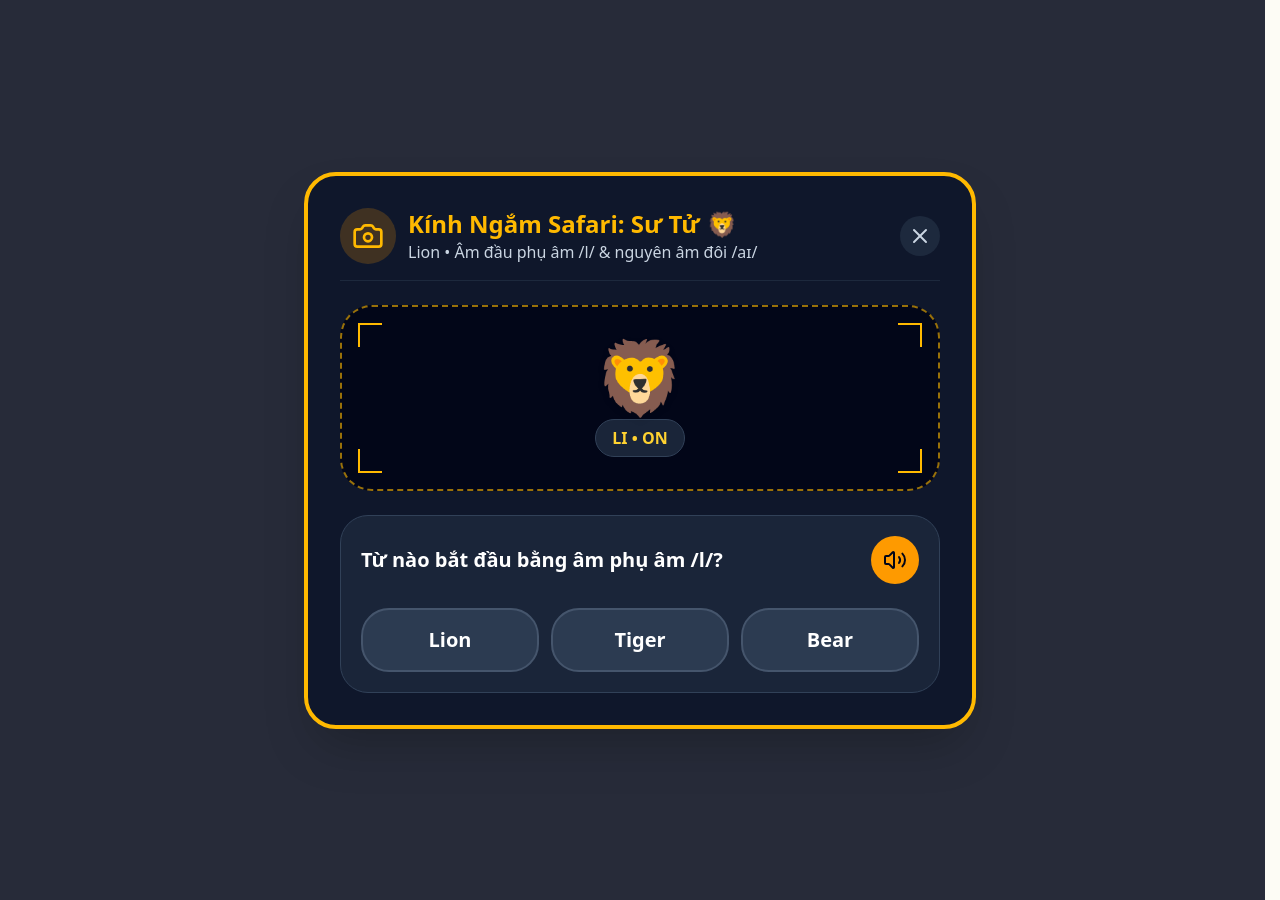
Test case: Phonics Safari UI Components › SafariCameraModal › handles incorrect answer with kick sound and feedback
Note: Click wrong option "Tiger"
Click the button "Tiger": (640, 640) [551,608,729,672]
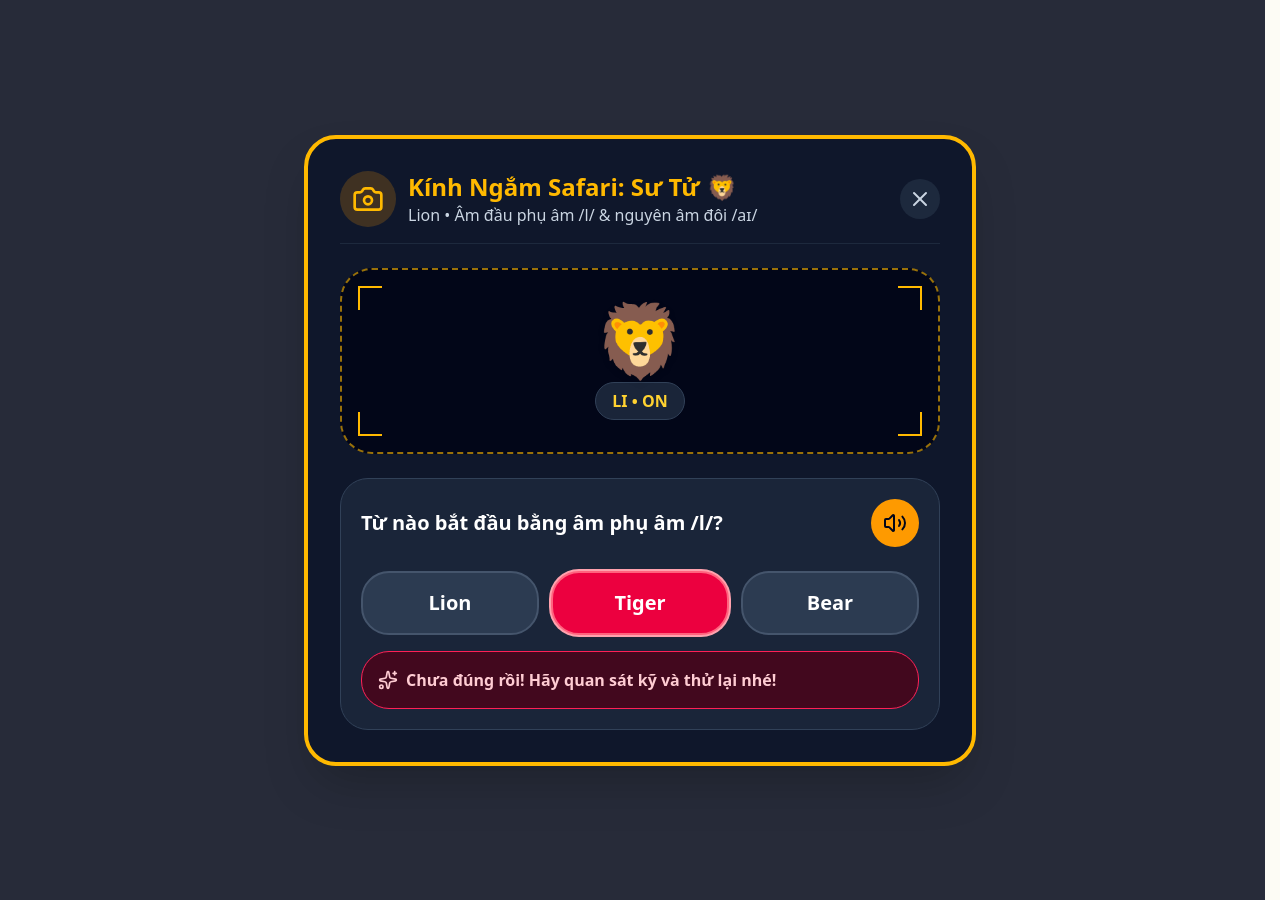
Result: the text "Chưa đúng rồi! Hãy quan sát kỹ và thử lại nhé!" is shown at [406,668,776,692]
